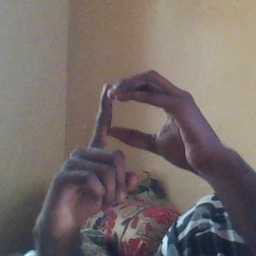P: (59, 69, 214, 210)
